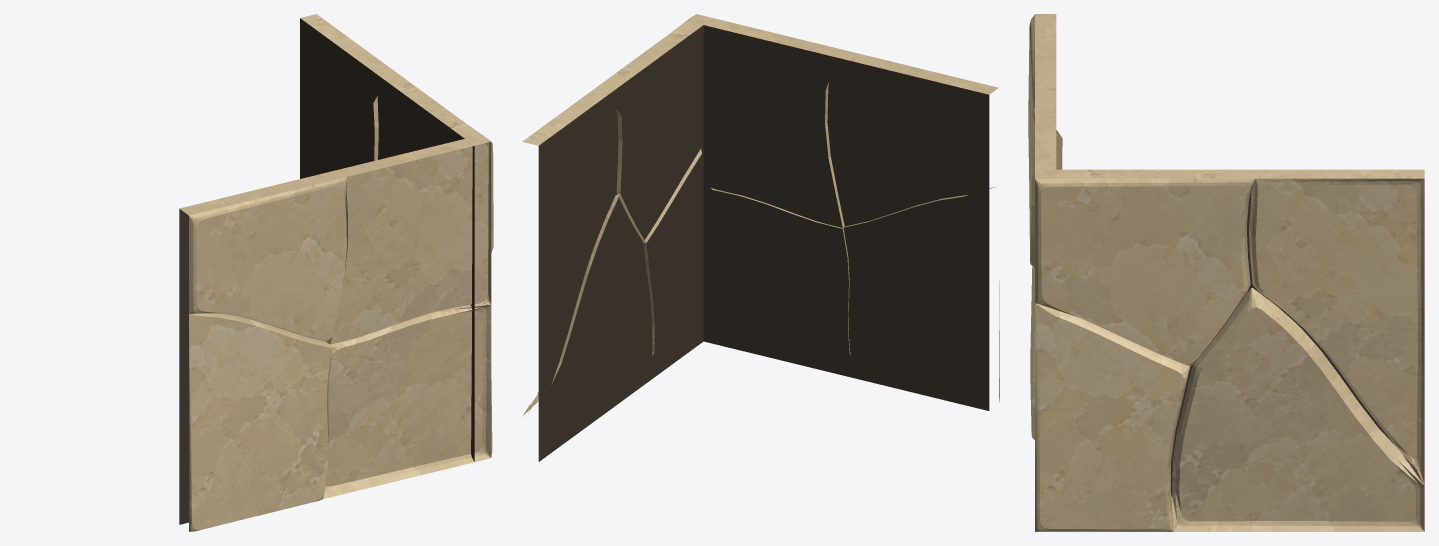
Rendered from ground_square_corner_04.glb.
3 views of the same model, side by side, from view 1: azimuth 30°, elevation 25°; view 2: azimuth 150°, elevation 25°; view 3: azimuth 270°, elevation 25° (orthographic). The views are drawn at different scales.
Parts seen in each view (by area): view 1: GroundSquareCorner04_Body; view 2: GroundSquareCorner04_Body; view 3: GroundSquareCorner04_Body.
Boxes of the visible parts, box(x1,y1,x2,y2) form: GroundSquareCorner04_Body: box(179, 14, 493, 531); GroundSquareCorner04_Body: box(522, 14, 999, 461); GroundSquareCorner04_Body: box(1028, 14, 1424, 531).
Size of the model in its own units: 1.02 by 1 by 1.02.
10 materials, 9 textured.
